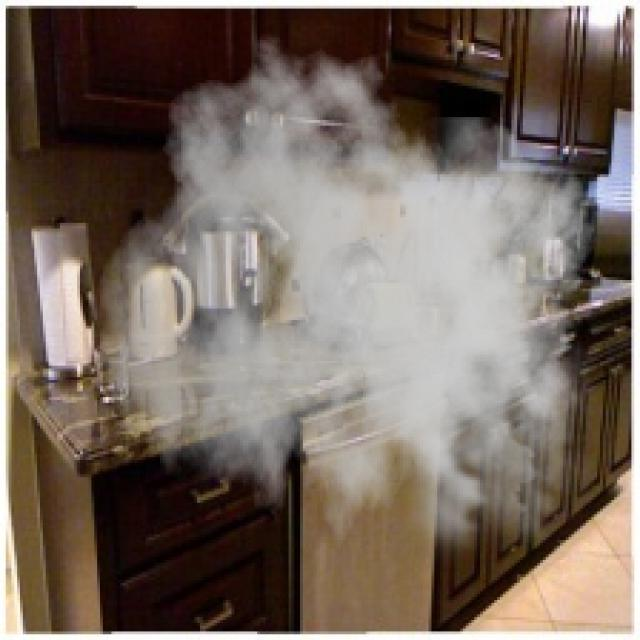smoke: (97, 34, 612, 580)
